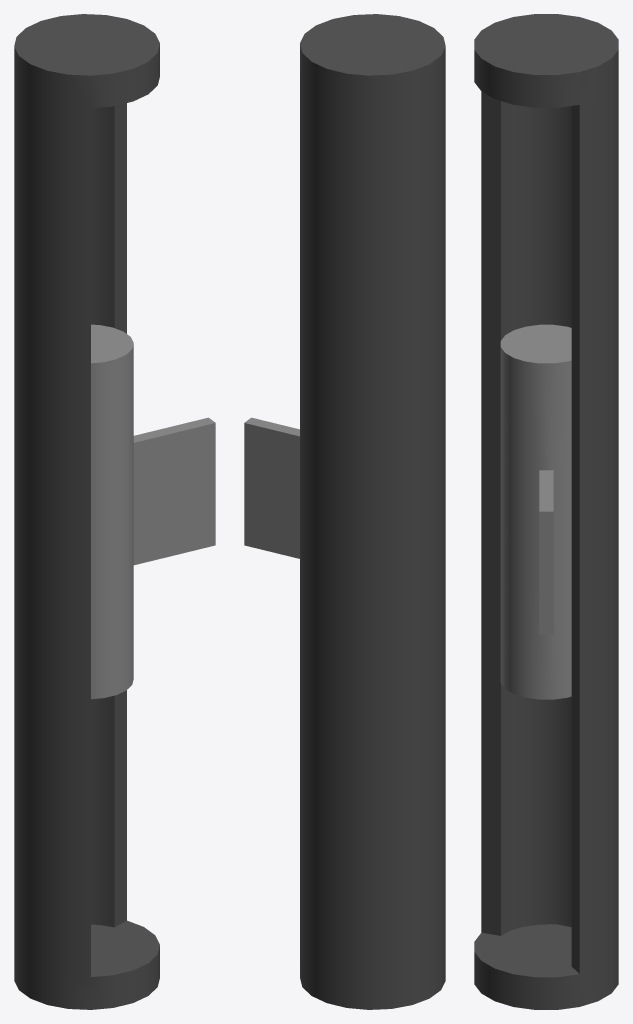
The model's file is Slider.gltf.
The picture shows the model from 3 angles, left to right: view 1: azimuth 30°, elevation 25°; view 2: azimuth 150°, elevation 25°; view 3: azimuth 270°, elevation 25°; orthographic projection.
Parts seen in each view (by area): view 1: Slide_Outer_v2:polySurface1, Slide_Inner_v2:Mesh; view 2: Slide_Outer_v2:polySurface1, Slide_Inner_v2:Mesh; view 3: Slide_Outer_v2:polySurface1, Slide_Inner_v2:Mesh.
Part boxes in pixels (left/top/right/bottom): Slide_Outer_v2:polySurface1: left=14, top=14, right=159, bottom=1009; Slide_Inner_v2:Mesh: left=91, top=324, right=215, bottom=699; Slide_Outer_v2:polySurface1: left=300, top=14, right=445, bottom=1009; Slide_Inner_v2:Mesh: left=244, top=417, right=299, bottom=558; Slide_Outer_v2:polySurface1: left=474, top=14, right=618, bottom=1009; Slide_Inner_v2:Mesh: left=500, top=324, right=571, bottom=699.
Size of the model in its own units: 0.179 by 0.8523 by 0.1193.
Materials: 1 (1 with a texture image).
